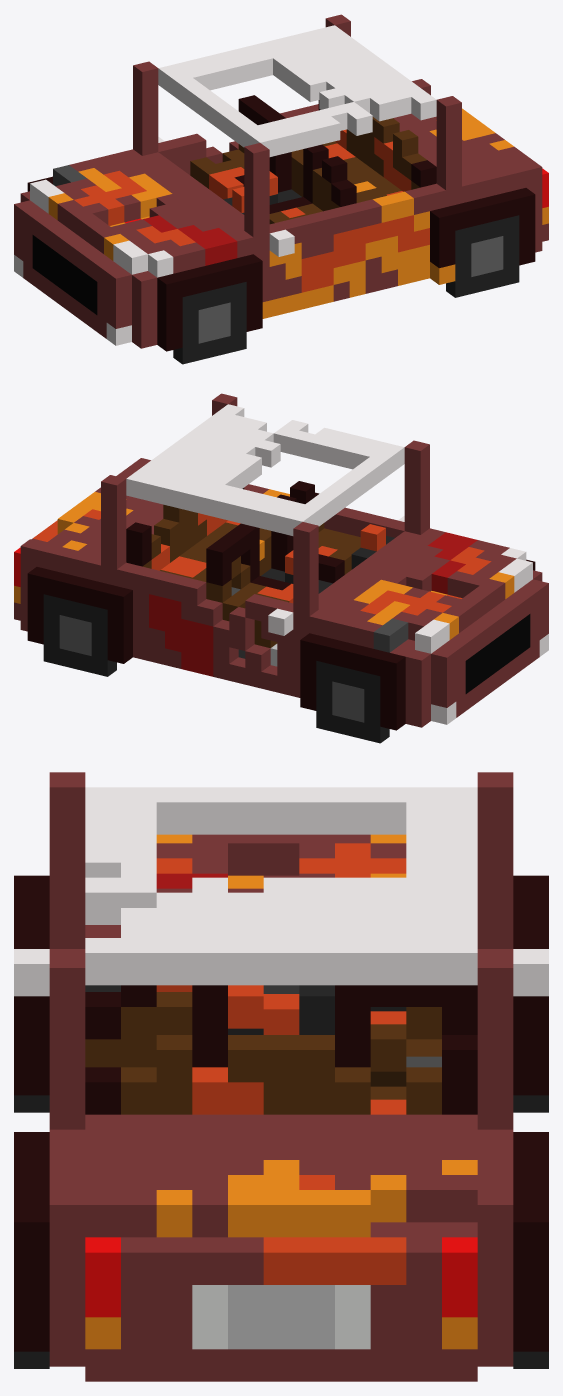
File: carro 2.obj
3 views of the same model, one above another, from view 1: azimuth 30°, elevation 25°; view 2: azimuth 150°, elevation 25°; view 3: azimuth 270°, elevation 25° (orthographic). The views are drawn at different scales.
Bounding box in the file's own units: 2.7 × 1.1 × 1.5.
1 material, 1 textured.
